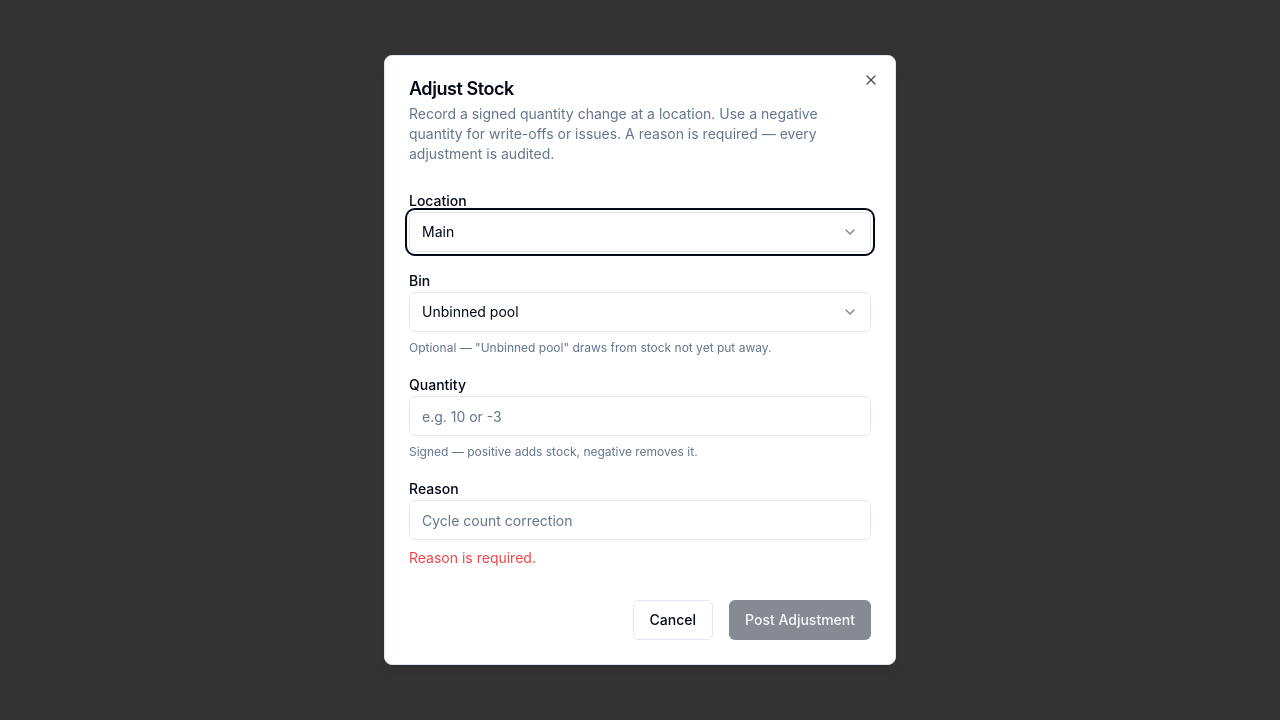
StockAdjustDialog › blocks submit while the reason is blank
Expected: the heading "Adjust Stock" is shown, left=409, top=78, right=514, bottom=99
Note: A valid signed quantity but no reason yet → still disabled.
Type "-3" into the field labelled "Quantity".
click(640, 416); type("-3")  # box left=409, top=396, right=871, bottom=436
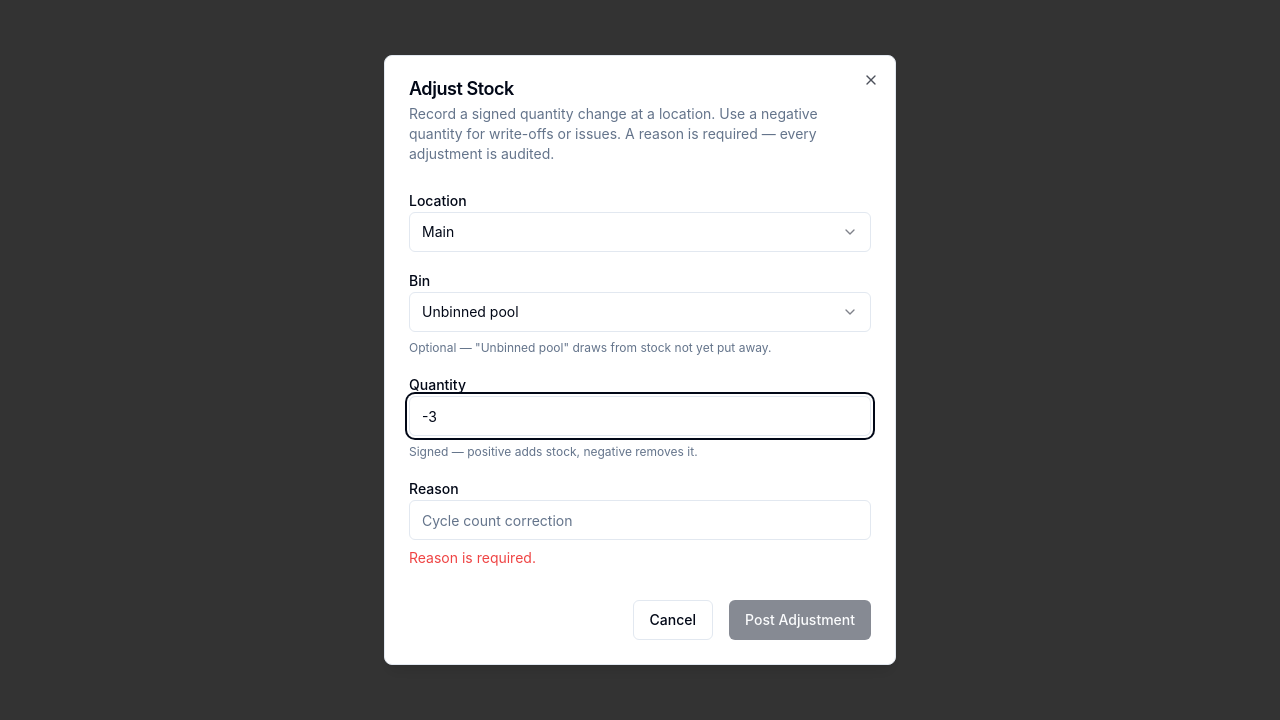
Expected: the button "Post Adjustment" is disabled, left=729, top=600, right=871, bottom=640
Note: Filling the reason enables the submit.
Type "Damaged in transit" into the field labelled "Reason".
click(640, 520); type("Damaged in transit")  # box left=409, top=500, right=871, bottom=540
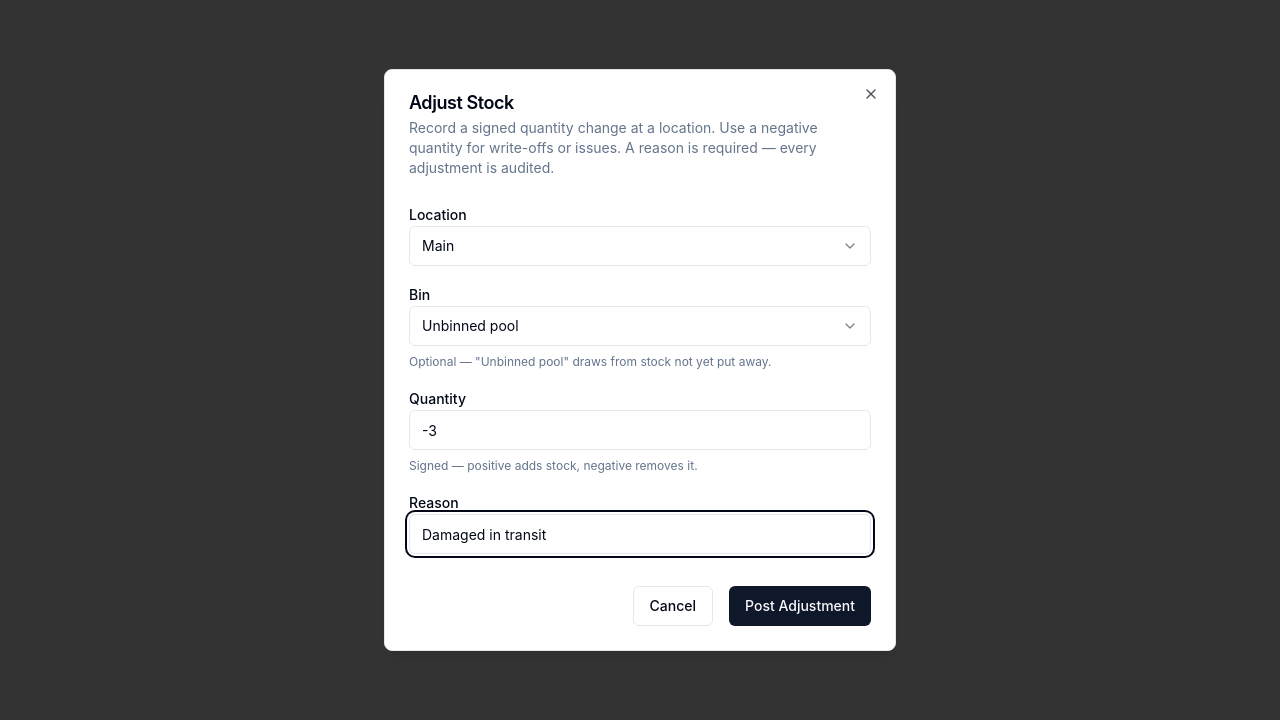
Now the button "Post Adjustment" is enabled, box left=729, top=586, right=871, bottom=626
